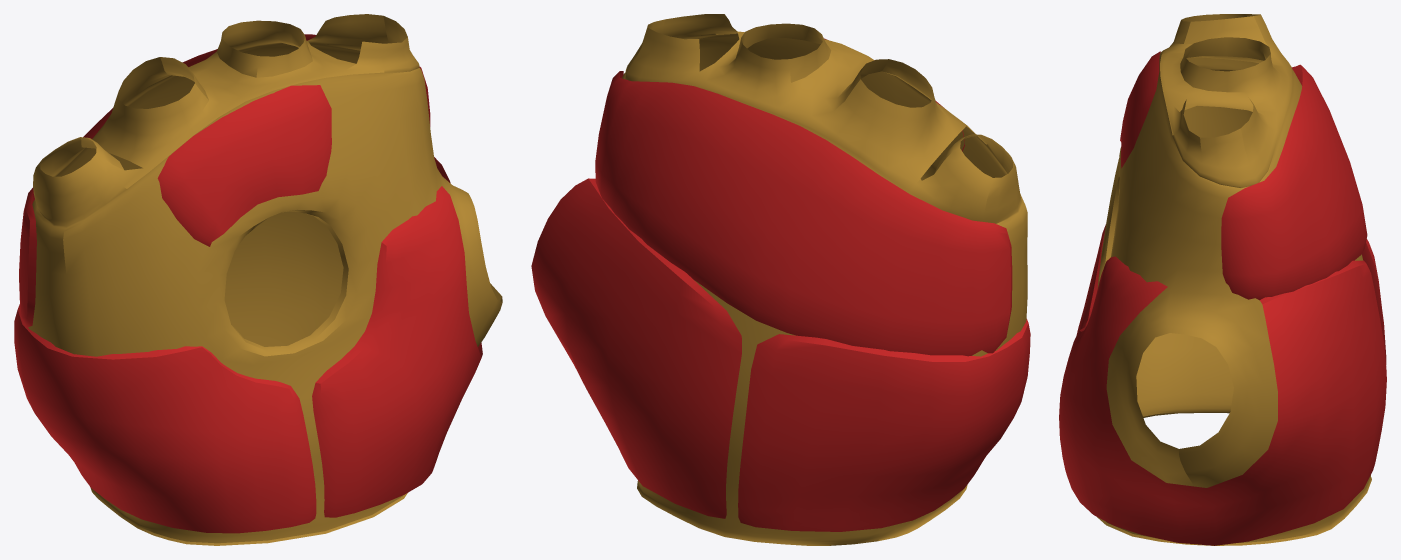
File: PalmComplete.fbx
3 views of the same model, side by side, from view 1: azimuth 30°, elevation 25°; view 2: azimuth 150°, elevation 25°; view 3: azimuth 270°, elevation 25° (orthographic).
Parts seen in each view (by area): view 1: palmThumb1; view 2: palmThumb1; view 3: palmThumb1.
Part boxes in pixels (bbox=[...]): palmThumb1: bbox=[14, 14, 502, 545]; palmThumb1: bbox=[531, 14, 1030, 545]; palmThumb1: bbox=[1059, 14, 1386, 545].
Bounding box in the file's own units: 69.08 × 63.04 × 43.23.
